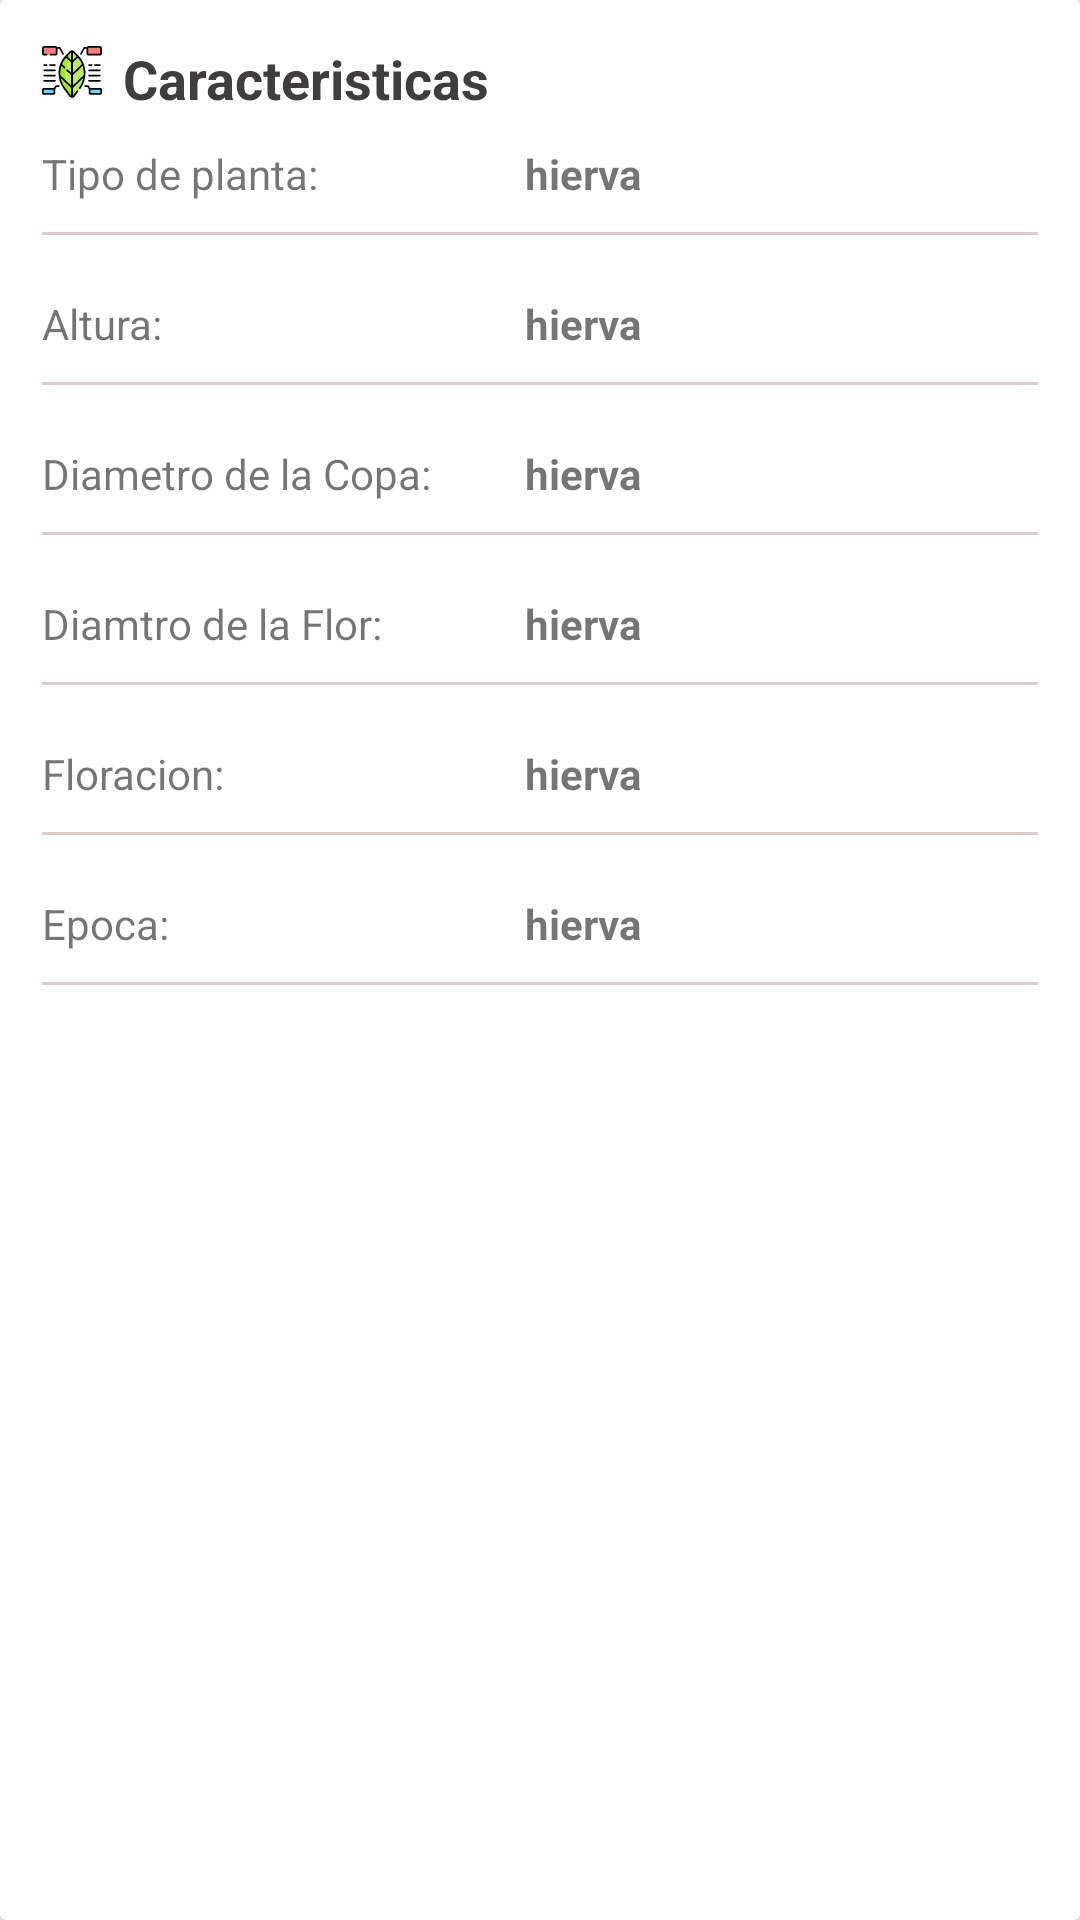

Icons on this 1080 x 1920 Android screen, each with the point to tap as (x,y):
analisis: (72,72)
